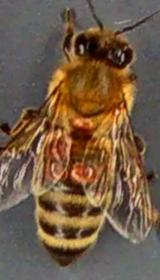varroa_mite: (70, 146, 100, 190), (40, 152, 76, 188), (40, 122, 70, 158)
